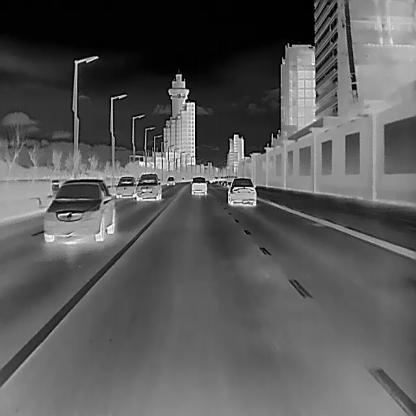car: (41, 180, 115, 240), (227, 176, 256, 205), (133, 172, 161, 200), (114, 176, 137, 198), (191, 176, 206, 194), (166, 174, 175, 184)
